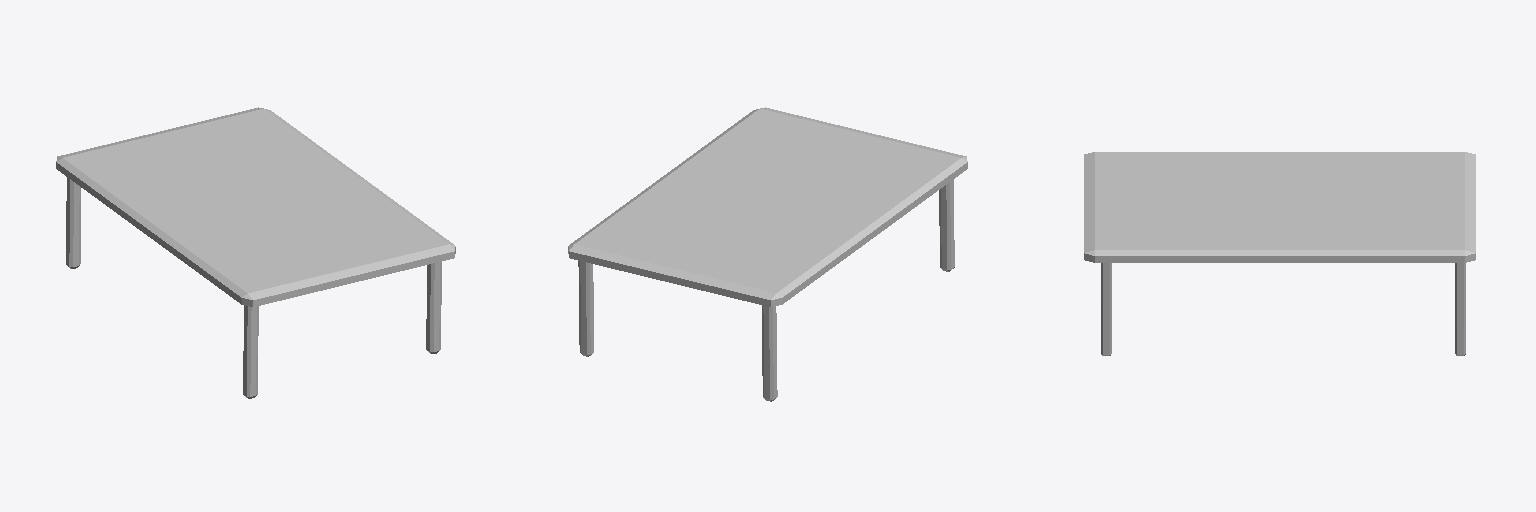
File: Table.obj
3 renders of one model, left to right at view 1: azimuth 30°, elevation 25°; view 2: azimuth 150°, elevation 25°; view 3: azimuth 270°, elevation 25°, orthographic.
Parts seen in each view (by area): view 1: Table; view 2: Table; view 3: Table.
Part boxes in pixels (x1,y1,x2,y2): Table: (56, 107, 455, 398); Table: (568, 107, 967, 401); Table: (1084, 152, 1475, 355).
Size of the model in its own units: 6.69 by 3.29 by 10.64.